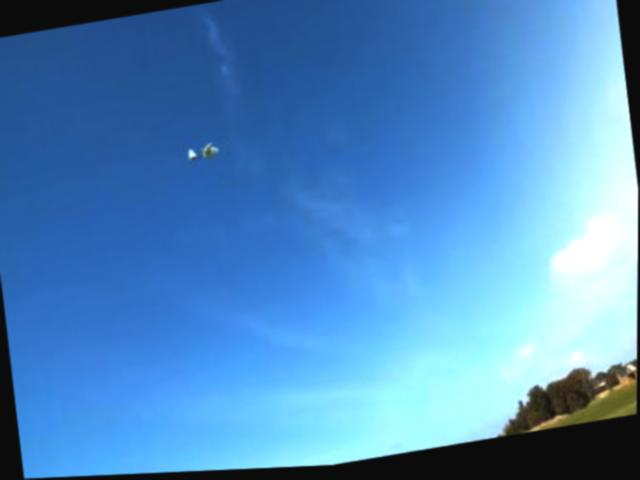uav: (182, 136, 226, 171)
